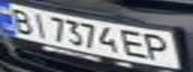3: (60, 17, 84, 47)
4: (96, 24, 121, 54)
7: (42, 14, 66, 43), (78, 20, 100, 48)
B: (3, 6, 36, 35)
E: (118, 28, 151, 60)
I: (27, 10, 51, 38)
P: (139, 32, 178, 62)
